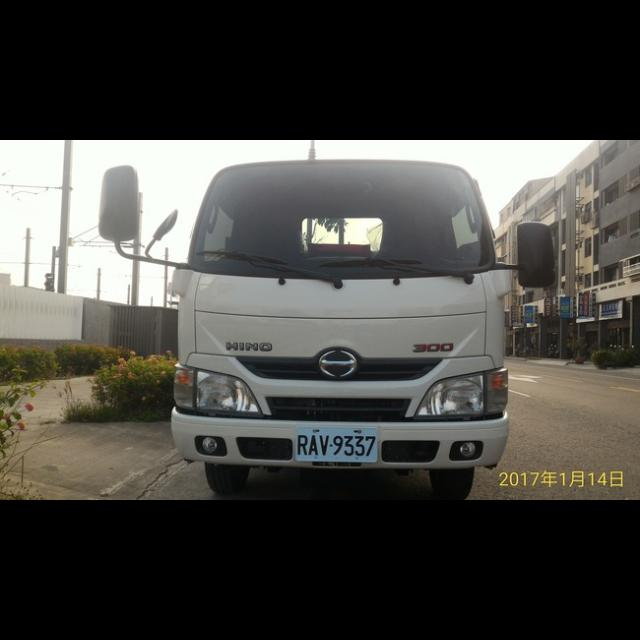plate: (295, 428, 378, 462)
